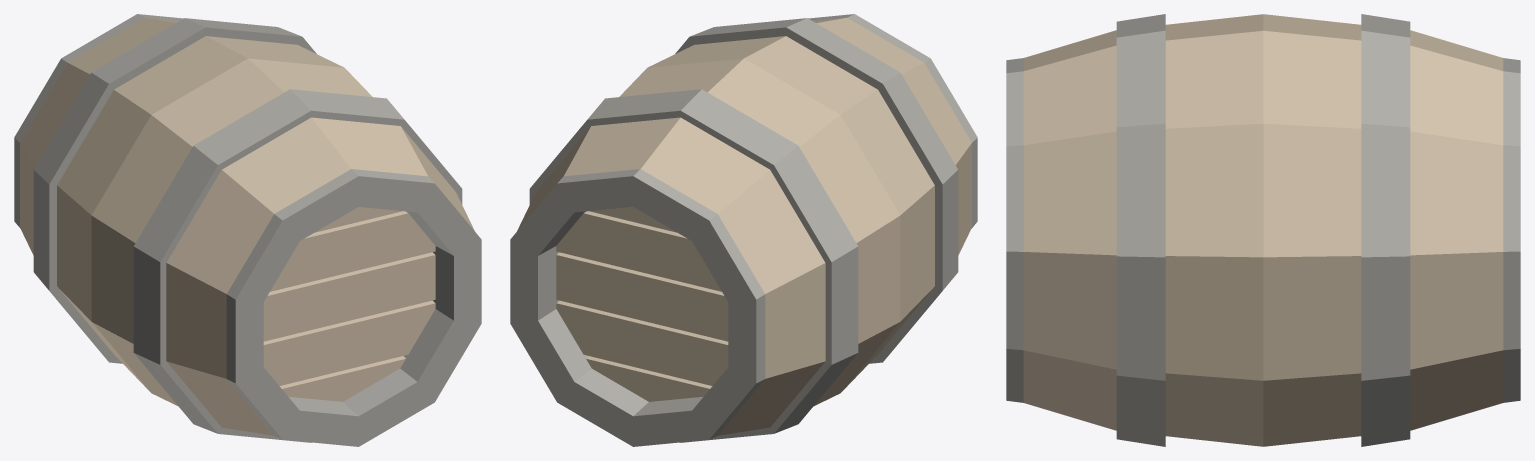
Rendered from object1_112-col.gltf.
3 views of the same model, side by side, from view 1: azimuth 30°, elevation 25°; view 2: azimuth 150°, elevation 25°; view 3: azimuth 270°, elevation 25° (orthographic). The views are drawn at different scales.
Visible parts, largest first — view 1: object1.112-col; view 2: object1.112-col; view 3: object1.112-col.
Boxes of the visible parts, bbox=[...] form: object1.112-col: bbox=[14, 14, 481, 446]; object1.112-col: bbox=[510, 14, 977, 446]; object1.112-col: bbox=[1006, 14, 1520, 446].
Bounding box in the file's own units: 0.4818 × 0.5066 × 0.5906.
